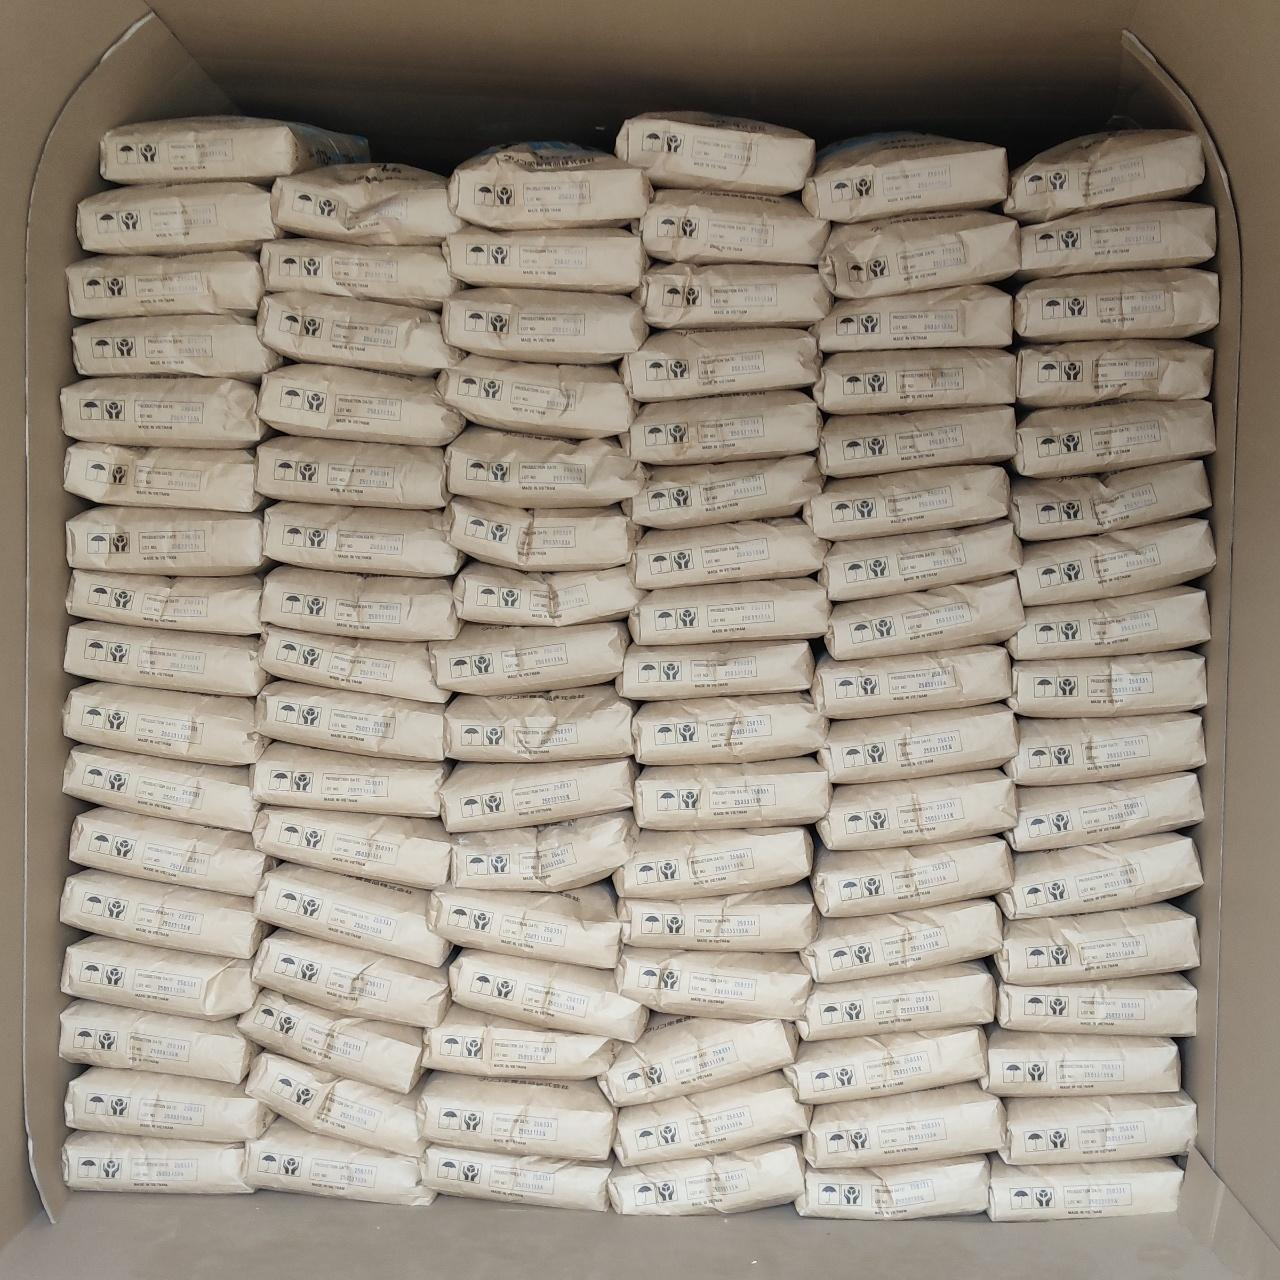sack: (256, 863, 449, 965), (238, 988, 423, 1092), (253, 930, 448, 1026), (802, 132, 1007, 222), (1005, 129, 1201, 222), (246, 1051, 421, 1156), (101, 117, 369, 184), (449, 949, 646, 1040), (62, 870, 264, 958), (70, 808, 267, 897), (449, 142, 651, 229), (998, 833, 1201, 919), (615, 1071, 808, 1162), (418, 1073, 615, 1160), (1017, 518, 1216, 605), (63, 745, 260, 831), (819, 212, 1019, 297), (805, 1083, 1005, 1167), (601, 1020, 797, 1105), (801, 899, 1001, 982), (257, 292, 459, 374), (259, 365, 464, 445), (445, 425, 647, 508), (247, 1117, 435, 1205), (617, 111, 815, 195), (825, 576, 1023, 659), (437, 355, 634, 437), (810, 837, 1012, 917), (998, 904, 1199, 983), (61, 1001, 257, 1083), (821, 520, 1021, 600), (64, 683, 261, 764), (252, 806, 449, 887), (1010, 461, 1210, 540), (1012, 400, 1216, 477), (62, 937, 257, 1017), (818, 704, 1017, 783), (427, 886, 620, 967), (1017, 200, 1216, 279), (797, 961, 995, 1040), (270, 163, 464, 243), (442, 288, 648, 363), (817, 770, 1014, 847), (1009, 772, 1200, 852), (64, 621, 266, 696), (64, 1068, 272, 1141), (1013, 268, 1218, 341), (787, 1027, 985, 1102), (257, 681, 445, 760), (444, 685, 635, 762), (261, 566, 459, 640), (812, 645, 1010, 719), (253, 742, 448, 817), (622, 455, 823, 527), (1009, 586, 1210, 659), (806, 467, 1009, 538), (621, 392, 821, 464), (450, 812, 634, 891), (62, 377, 267, 448), (265, 502, 459, 576), (608, 1141, 802, 1214), (621, 329, 821, 401), (261, 626, 448, 702), (260, 238, 465, 307), (430, 622, 628, 694), (1007, 713, 1205, 784), (998, 1091, 1196, 1163), (635, 756, 830, 829), (617, 945, 811, 1017), (613, 828, 813, 898), (425, 1005, 619, 1077), (67, 506, 268, 576), (77, 183, 275, 253), (981, 1026, 1179, 1096), (642, 189, 828, 264), (448, 497, 639, 570), (822, 406, 1015, 477), (634, 693, 828, 764), (256, 436, 447, 508), (64, 442, 261, 511), (633, 519, 828, 588), (442, 760, 635, 829), (443, 227, 646, 293), (67, 251, 263, 319), (72, 316, 281, 380), (619, 884, 821, 949), (817, 285, 1012, 353), (1009, 651, 1206, 717), (629, 578, 829, 644), (1017, 340, 1212, 407), (452, 559, 647, 626), (66, 568, 263, 634), (638, 263, 831, 328), (996, 973, 1196, 1036), (813, 350, 1015, 413), (986, 1157, 1183, 1220), (423, 1145, 613, 1210), (795, 1155, 989, 1217), (64, 1131, 253, 1193), (618, 641, 813, 699)
